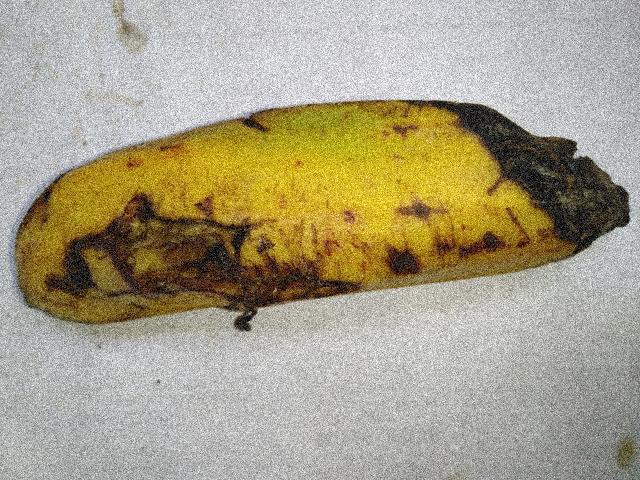ripe: (8, 78, 459, 351)
rotten: (391, 55, 639, 253), (45, 188, 371, 324)
